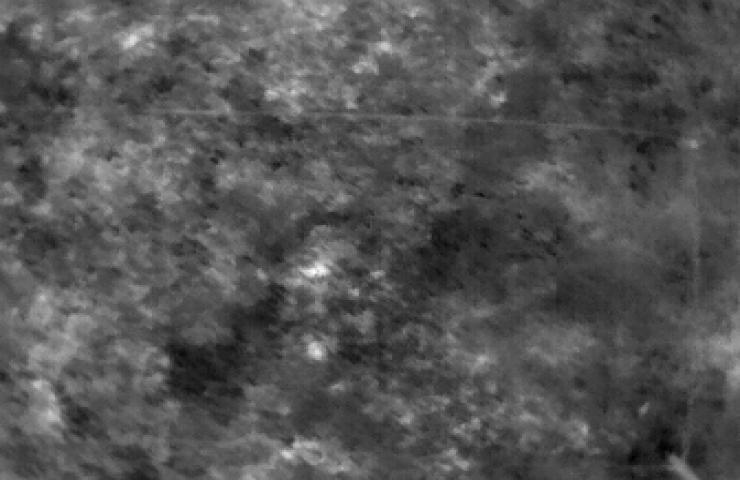landmines: (298, 256, 338, 289)
